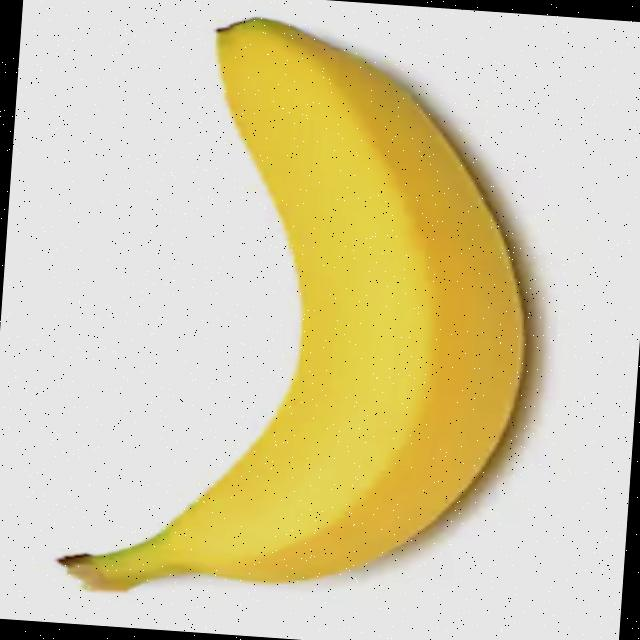Ripe: (50, 3, 553, 624)
